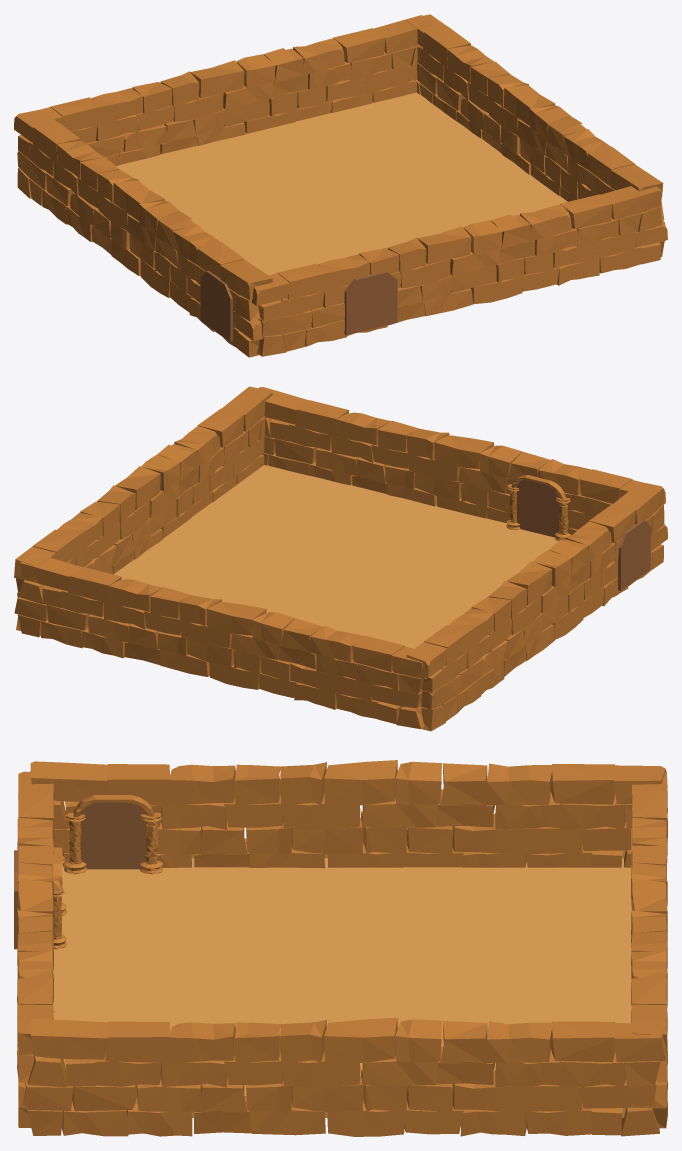
3 renders of one model, top to bottom at view 1: azimuth 30°, elevation 25°; view 2: azimuth 150°, elevation 25°; view 3: azimuth 270°, elevation 25°, orthographic. The views are drawn at different scales.
Visible parts, largest first — view 1: Cube.008; view 2: Cube.008; view 3: Cube.008.
Part boxes in pixels (bbox=[...]): Cube.008: bbox=[14, 14, 667, 357]; Cube.008: bbox=[14, 386, 667, 731]; Cube.008: bbox=[14, 760, 667, 1136].
Size of the model in its own units: 12.86 by 2.26 by 12.91.
